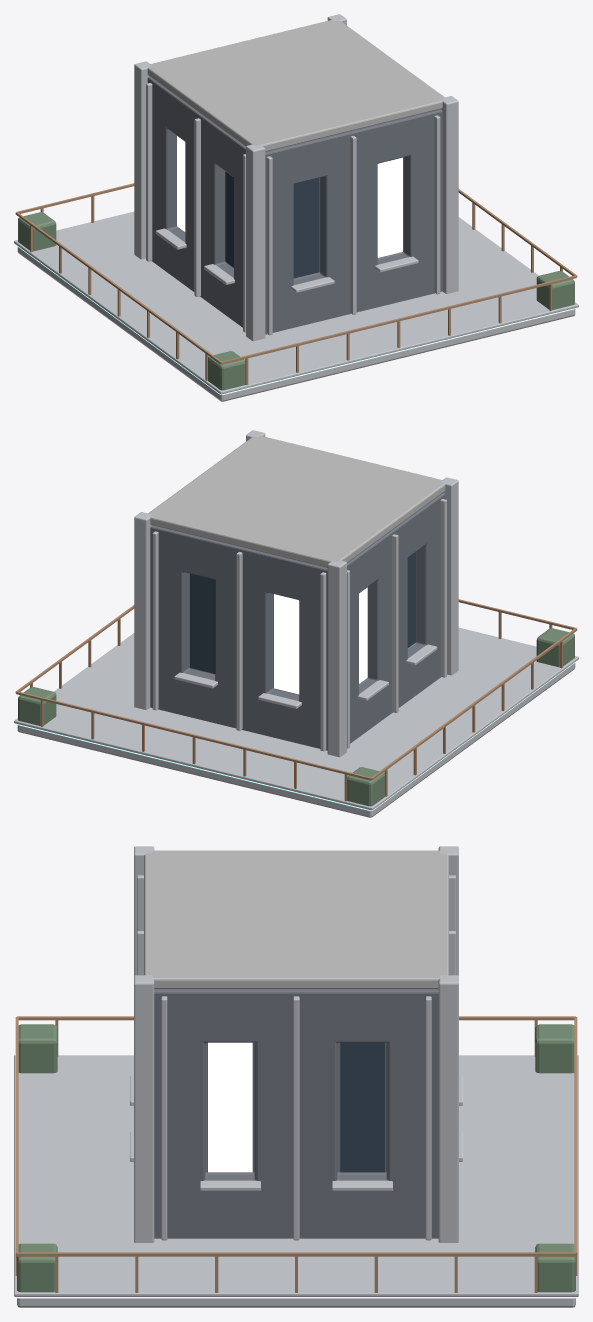
Rendered from transfer_5x5_3x3_office.glb.
The picture shows the model from 3 angles, top to bottom: view 1: azimuth 30°, elevation 25°; view 2: azimuth 150°, elevation 25°; view 3: azimuth 270°, elevation 25°; orthographic projection. The views are drawn at different scales.
Visible parts, largest first — view 1: ext_wall, int_slab_edge, int_ceiling, int_columns, ext_frames, ext_deck_rail, int_slab, ext_deck_plants, ext_panes_dark, ext_panes_lit, ext_deck_glow; view 2: ext_wall, int_slab_edge, int_ceiling, int_columns, ext_frames, ext_deck_rail, int_slab, ext_deck_plants, ext_panes_lit, ext_panes_dark, ext_deck_glow; view 3: int_slab_edge, ext_wall, int_ceiling, int_columns, ext_frames, ext_deck_plants, ext_deck_rail, ext_panes_lit, ext_panes_dark, int_slab, ext_deck_glow.
Boxes of the visible parts, box(x1,y1,x2,y2) form: ext_wall: box(147, 76, 442, 334); int_slab_edge: box(14, 211, 578, 394); int_ceiling: box(147, 19, 444, 151); int_columns: box(134, 14, 458, 341); ext_frames: box(146, 83, 440, 335); ext_deck_rail: box(15, 183, 577, 385); int_slab: box(17, 247, 575, 401); ext_deck_plants: box(18, 212, 574, 390); ext_panes_dark: box(225, 171, 318, 278); ext_panes_lit: box(177, 136, 402, 257); ext_deck_glow: box(15, 244, 576, 394); ext_wall: box(150, 492, 445, 750); int_slab_edge: box(14, 627, 578, 810); int_ceiling: box(148, 435, 445, 567); int_columns: box(134, 430, 458, 757); ext_frames: box(152, 499, 446, 751); ext_deck_rail: box(15, 599, 577, 801); int_slab: box(17, 663, 575, 817); ext_deck_plants: box(18, 628, 574, 806); ext_panes_lit: box(274, 587, 367, 694); ext_panes_dark: box(190, 552, 415, 673); ext_deck_glow: box(16, 660, 577, 810); int_slab_edge: box(14, 1055, 578, 1296); ext_wall: box(154, 989, 438, 1238); int_ceiling: box(144, 850, 448, 988); int_columns: box(134, 846, 458, 1242); ext_frames: box(130, 875, 462, 1240); ext_deck_plants: box(17, 1024, 575, 1292); ext_deck_rail: box(15, 1016, 577, 1292); ext_panes_lit: box(208, 1042, 252, 1172); ext_panes_dark: box(340, 1042, 384, 1172); int_slab: box(17, 1298, 575, 1307); ext_deck_glow: box(15, 1297, 577, 1298).
Size of the model in its own units: 5.56 by 3 by 5.56.
